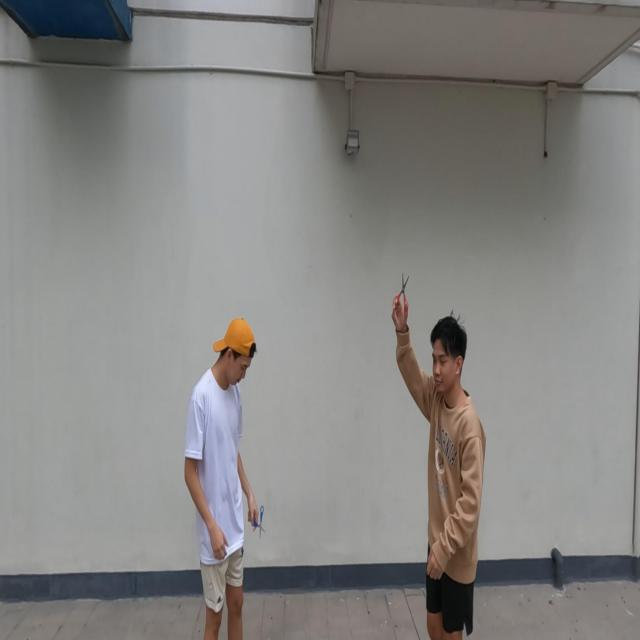scissor: (392, 273, 410, 315), (252, 506, 265, 540)
